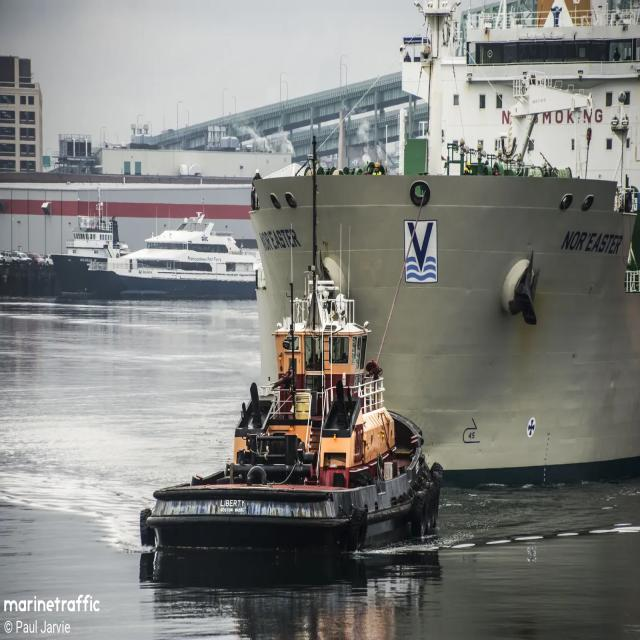Tug: (141, 136, 443, 552)
